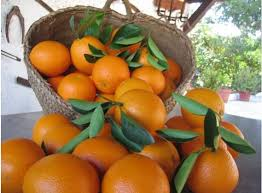orange: (22, 150, 100, 193), (102, 149, 173, 193), (70, 132, 133, 177), (30, 109, 83, 155), (185, 150, 240, 192), (119, 89, 167, 132), (182, 87, 227, 126), (28, 39, 69, 77), (93, 55, 131, 93), (70, 34, 106, 74), (58, 73, 96, 110), (130, 62, 166, 93)
